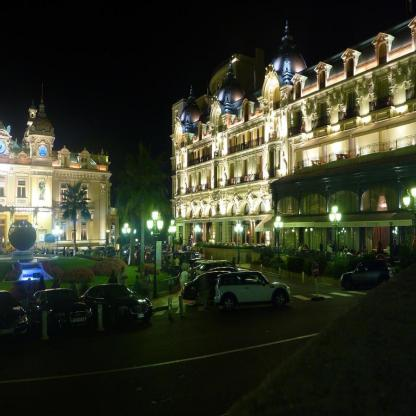Car: (2, 242, 397, 336)
